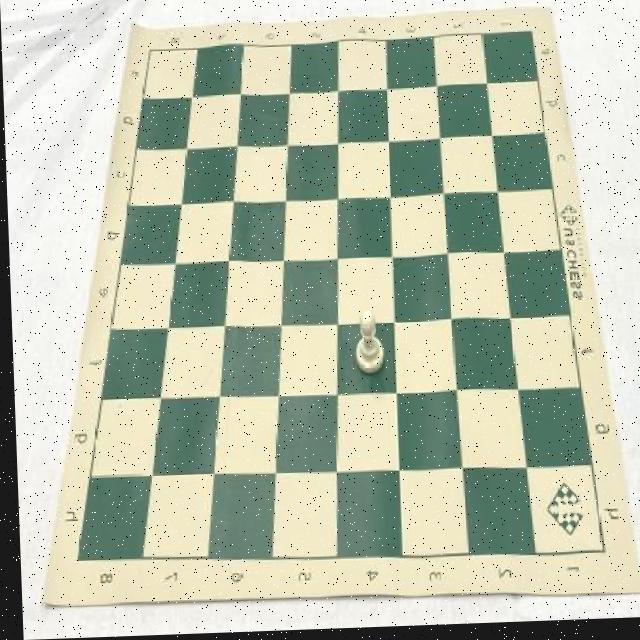white-knight: (350, 311, 382, 379)
